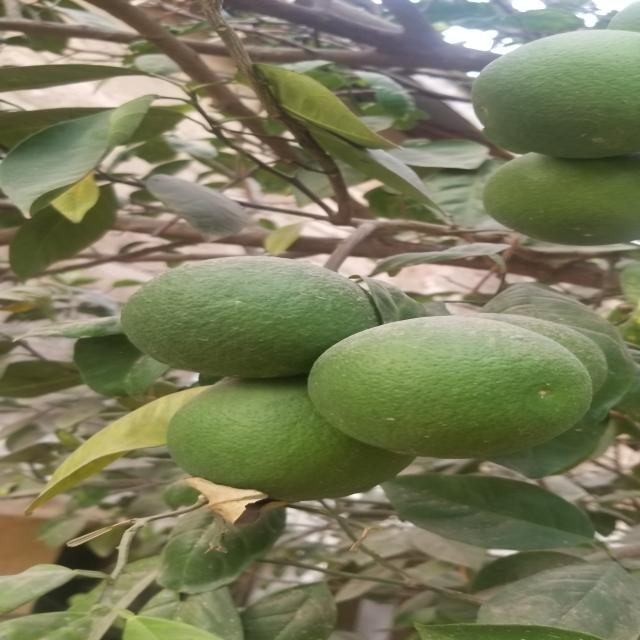Unripe: (314, 314, 594, 464), (114, 251, 386, 390), (160, 372, 424, 514), (463, 28, 640, 168)
